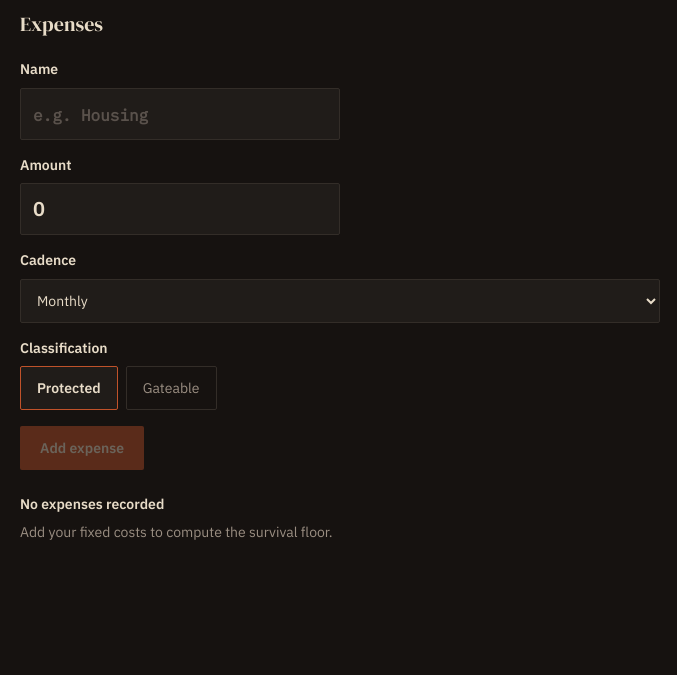
ExpensesPage › adds a GATEABLE expense and it appears in the Gateable column
// Fill name
In the field labelled "Name": (180, 114) [20, 88, 340, 140], type "Dining Out"
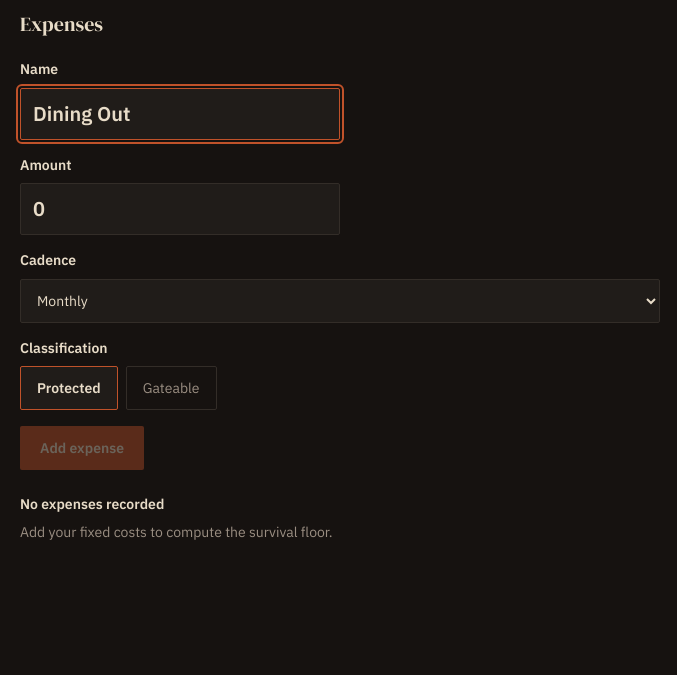
// Fill amount
Replace the text in the number field labelled "Amount" with "200": (180, 209) [20, 183, 340, 235]
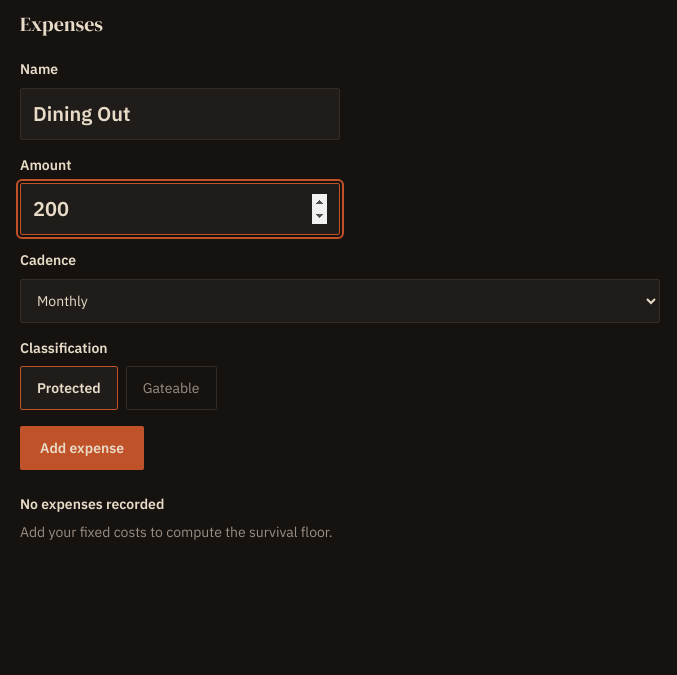
// Switch to GATEABLE
Click the button "Gateable": (171, 388) [126, 366, 216, 410]
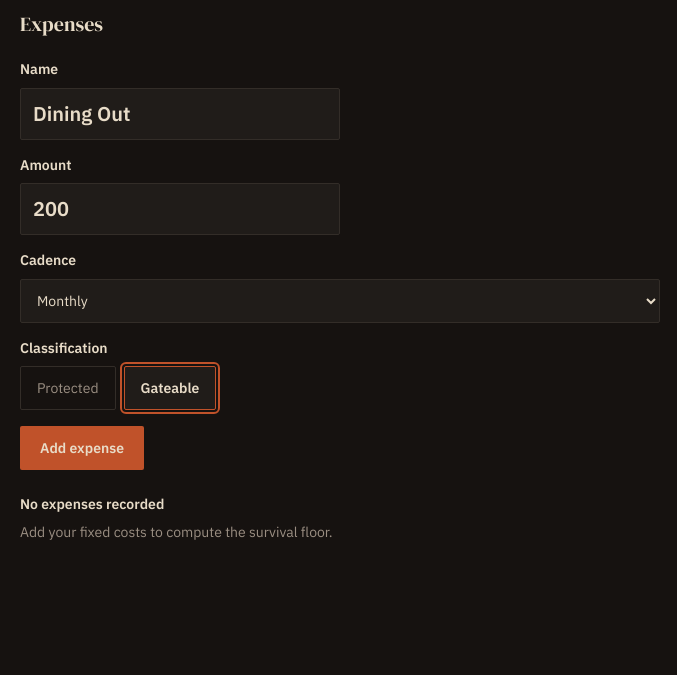
Expected: the button "Gateable" is pressed, [124, 366, 216, 410]
Click the button "Add expense": (82, 448) [20, 426, 144, 470]
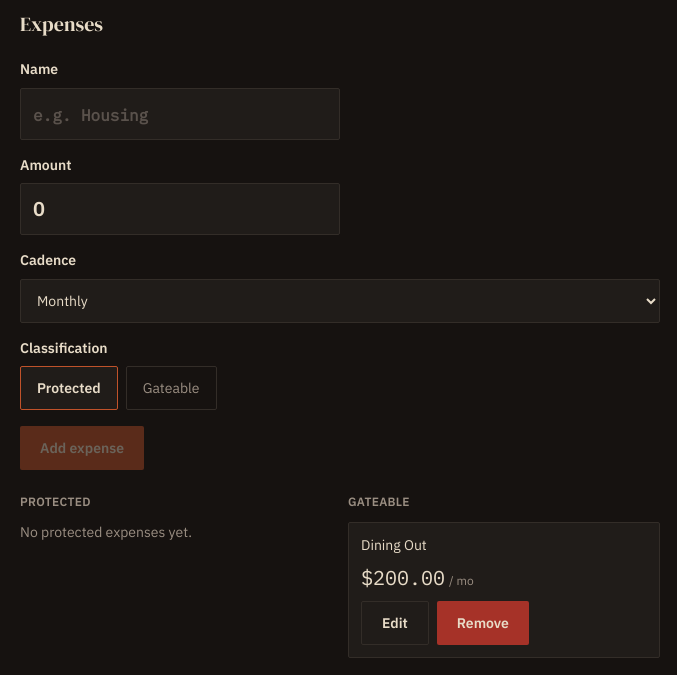
Expected: the text "Dining Out" is shown, [361, 536, 427, 554]
